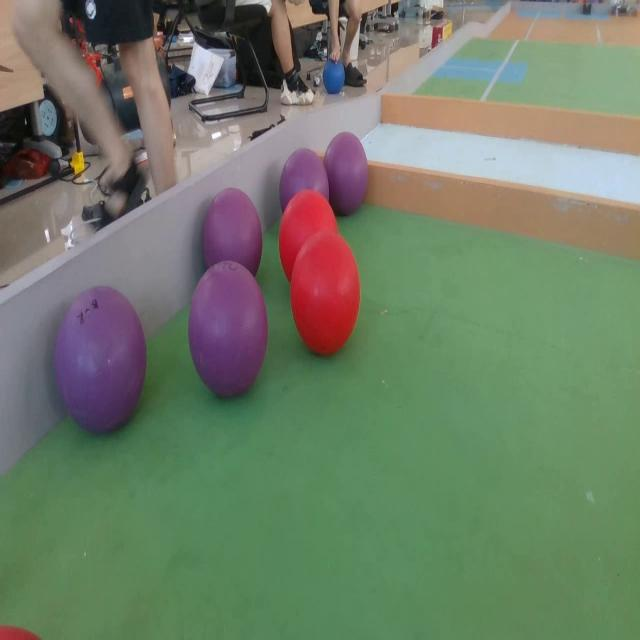invalid: (56, 286, 147, 431), (187, 260, 268, 400), (202, 188, 263, 278), (324, 132, 374, 222), (278, 149, 331, 214)
red: (290, 230, 360, 356), (279, 187, 337, 282)
